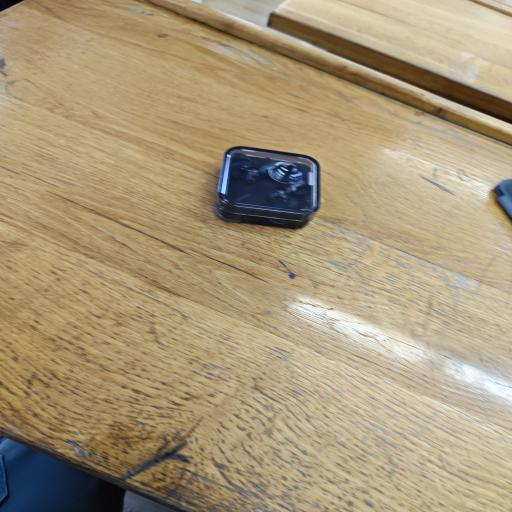Headphones: (207, 141, 330, 236)
